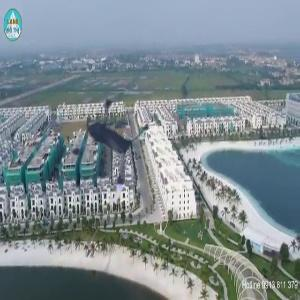drone: (41, 86, 164, 209)
